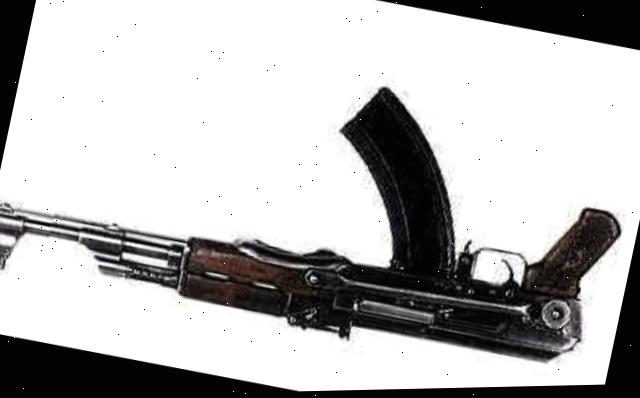rifle: (0, 7, 631, 398)
